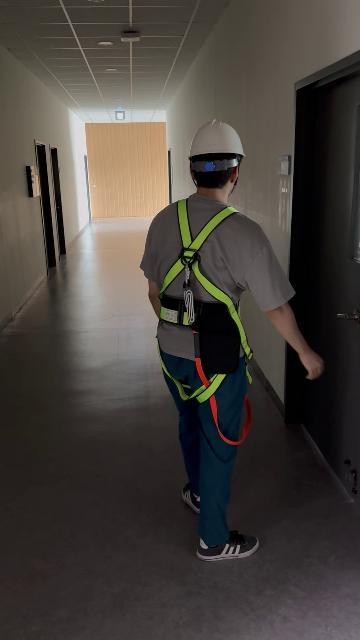helmet_worn: (187, 119, 246, 160)
shoe_not_worn: (196, 530, 259, 561), (182, 482, 200, 514)
vest_worn: (153, 201, 256, 409)
